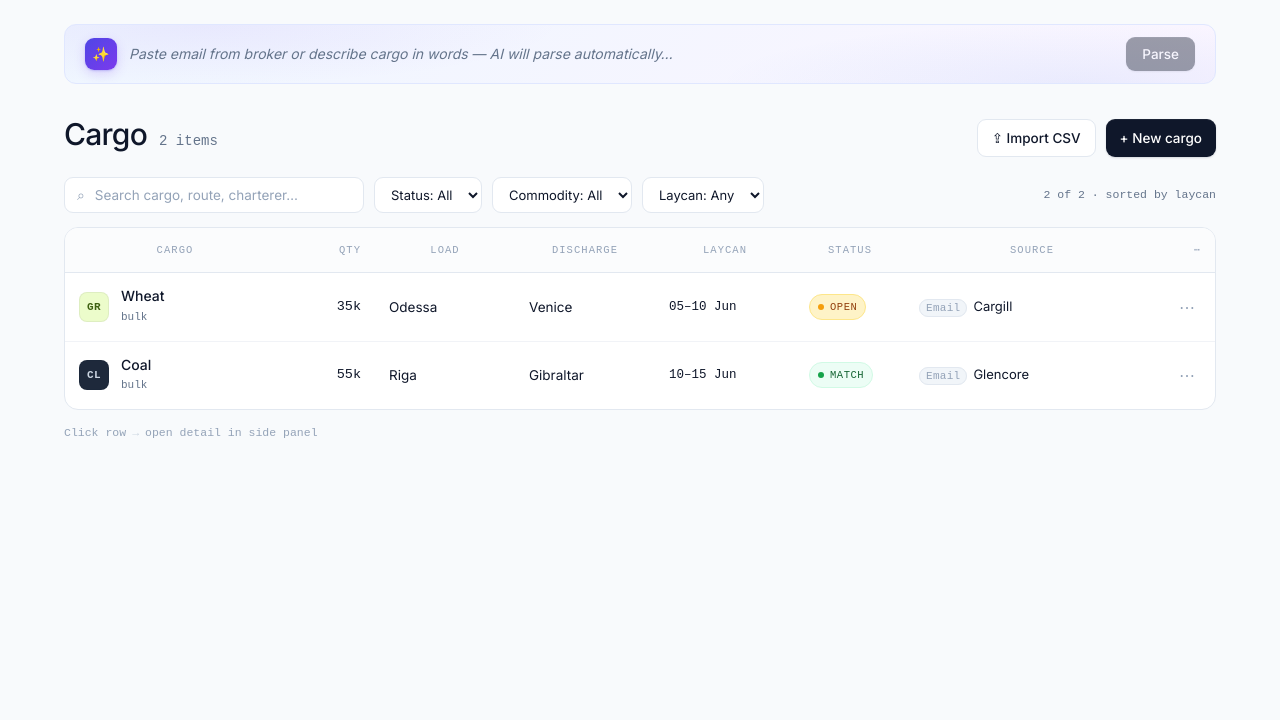
Test: CargoClient › closes side panel when backdrop is clicked
Click the row that starts with "Wheat" at (640, 307), box [65, 272, 1215, 341]
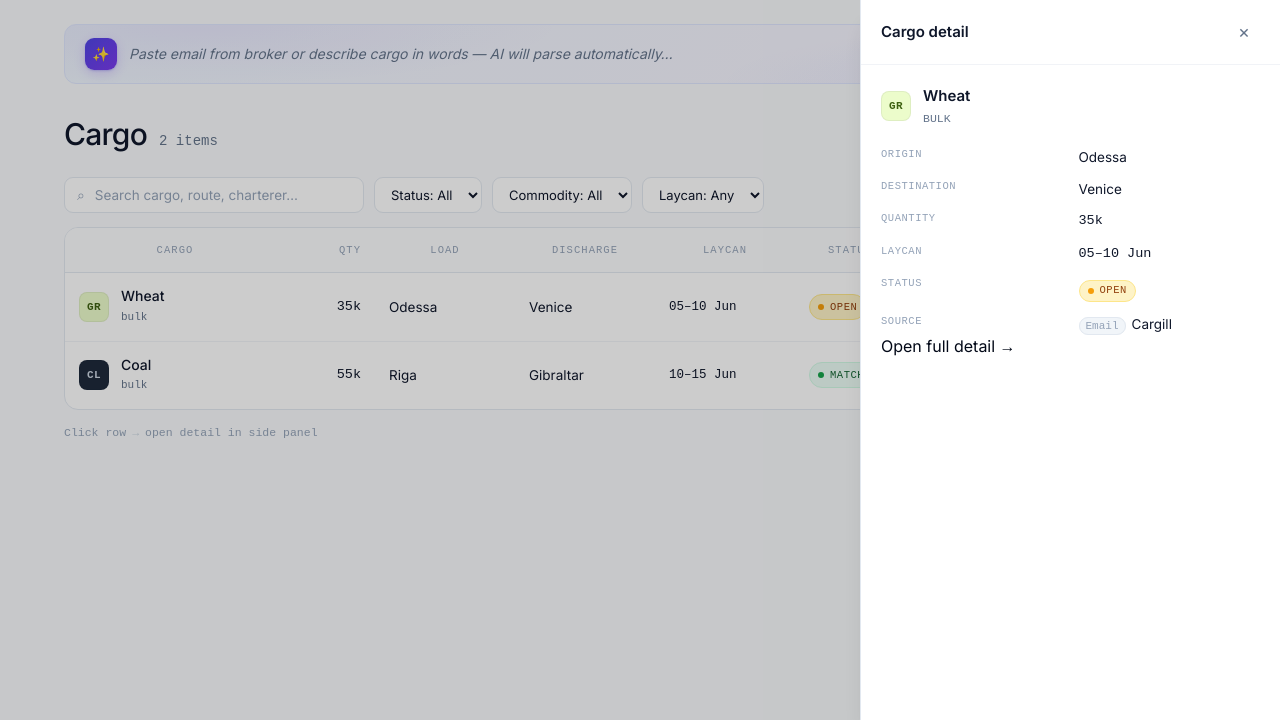
expect the dialog "Cargo detail" is shown: met, box [860, 0, 1279, 719]
Simulate close via the close button instead of backdrop (reliable in jsdom)
Click the button named "Close panel" at (1244, 32), box [1228, 16, 1260, 48]
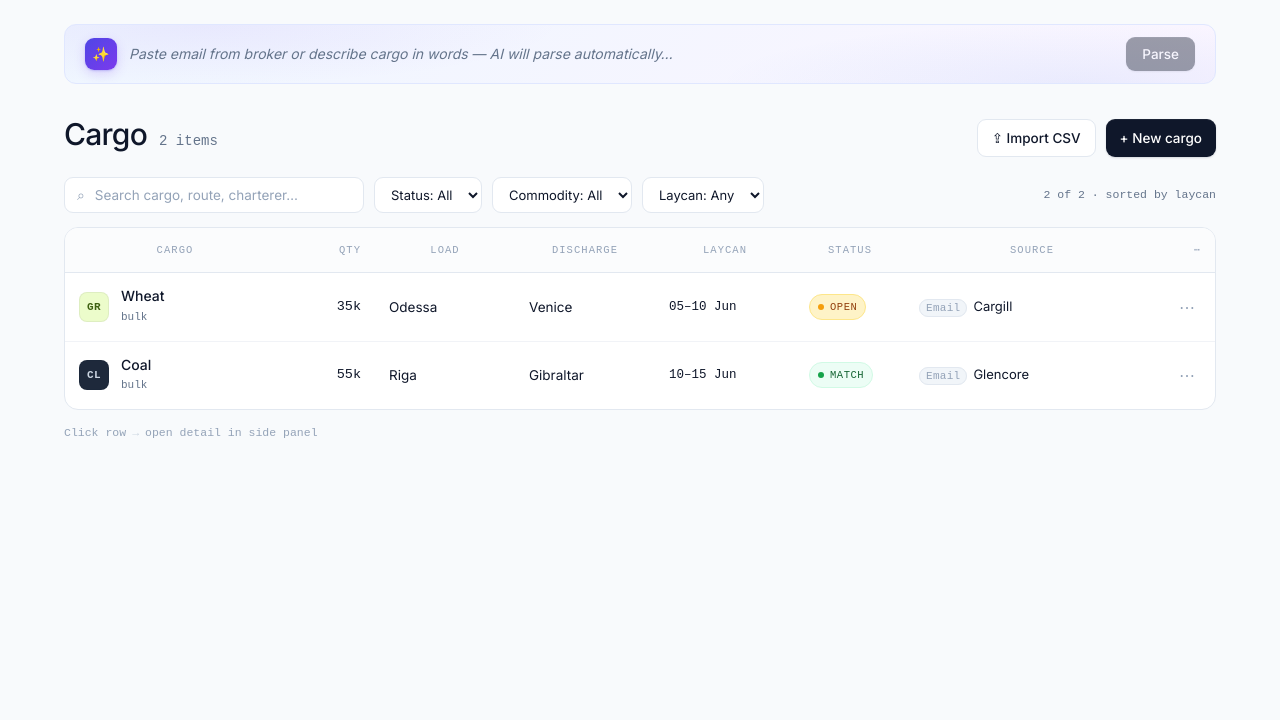
expect the heading "Cargo detail" is gone: met
